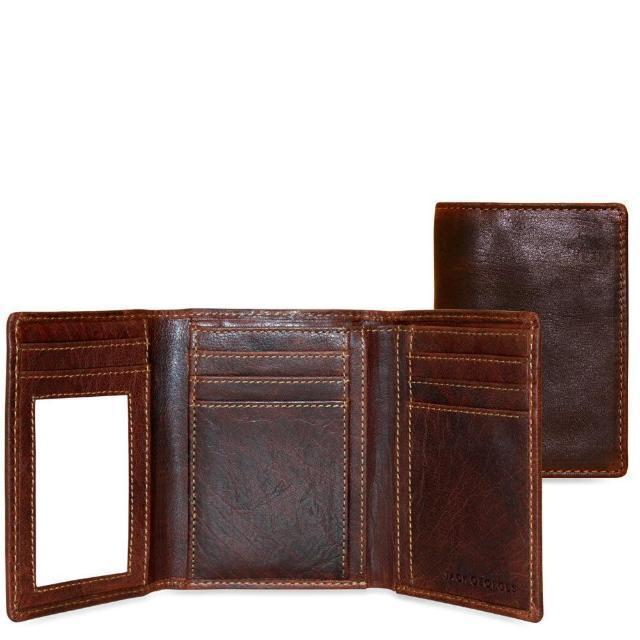wallet: (2, 305, 546, 629), (432, 192, 628, 483)
